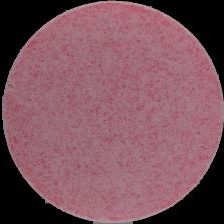23155-113: (0, 0, 224, 224)
